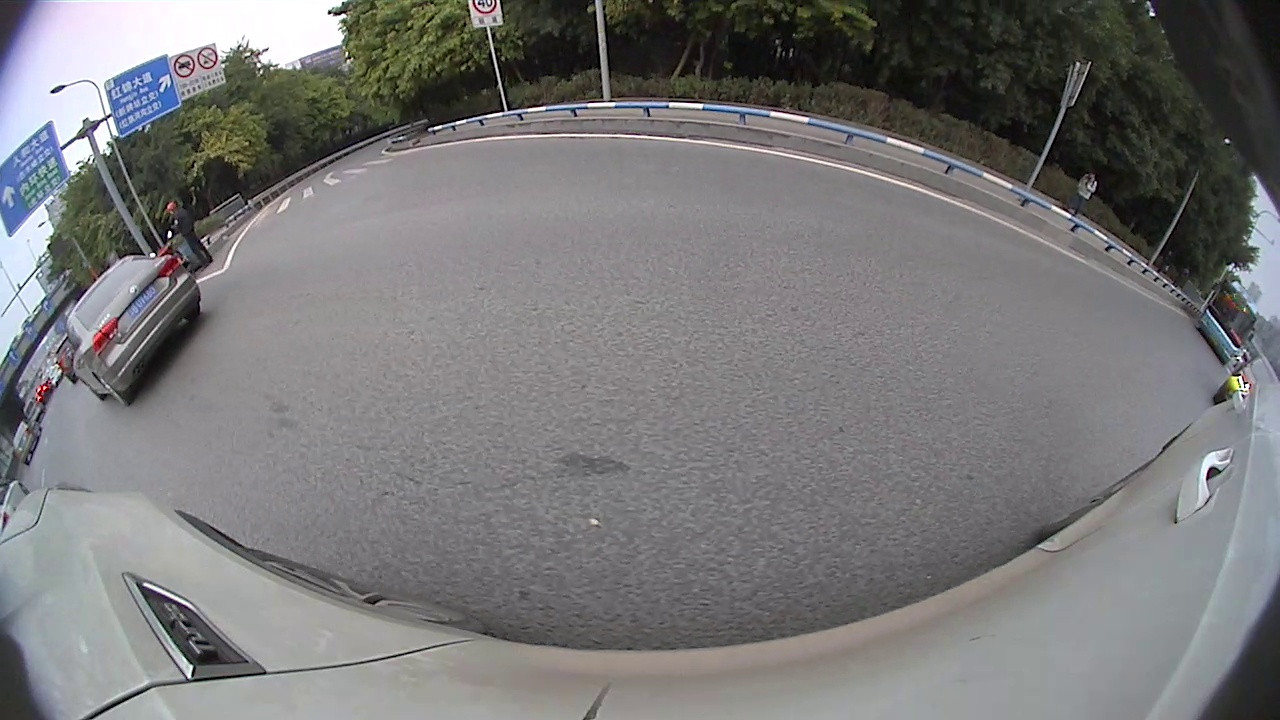bus: (1196, 273, 1261, 366)
car: (67, 253, 202, 407), (1216, 356, 1279, 405), (10, 418, 42, 467), (1, 478, 28, 533), (56, 336, 81, 385), (21, 398, 45, 421)
front: (80, 378, 108, 404)
person: (172, 200, 192, 272), (1082, 166, 1095, 219)
rear: (89, 370, 135, 409), (178, 301, 207, 325)
